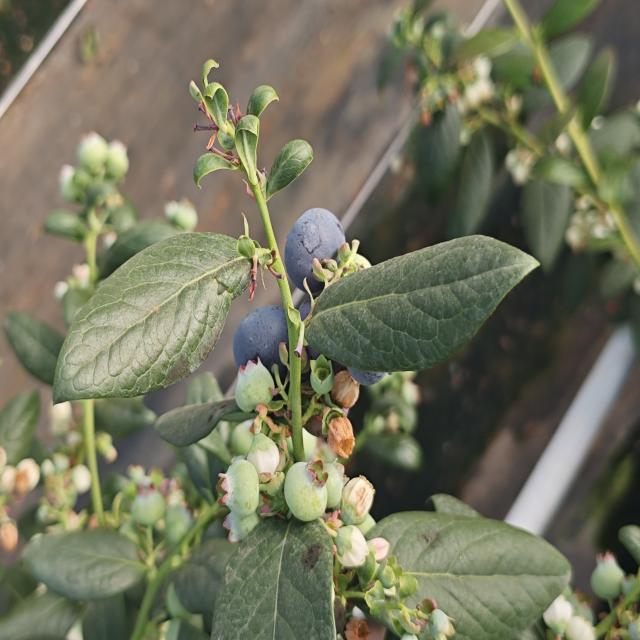ripe: (279, 204, 353, 294), (231, 296, 298, 372)
